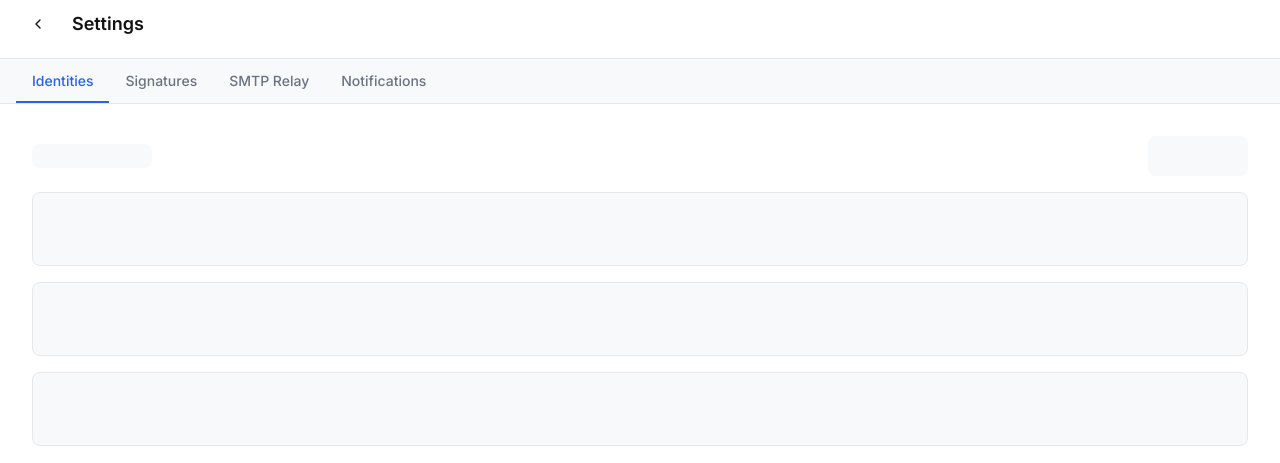
Test: Settings › signatures tab › renders signature list when data is available
Click the tab "Signatures" at [161, 81], box [110,59,213,103]
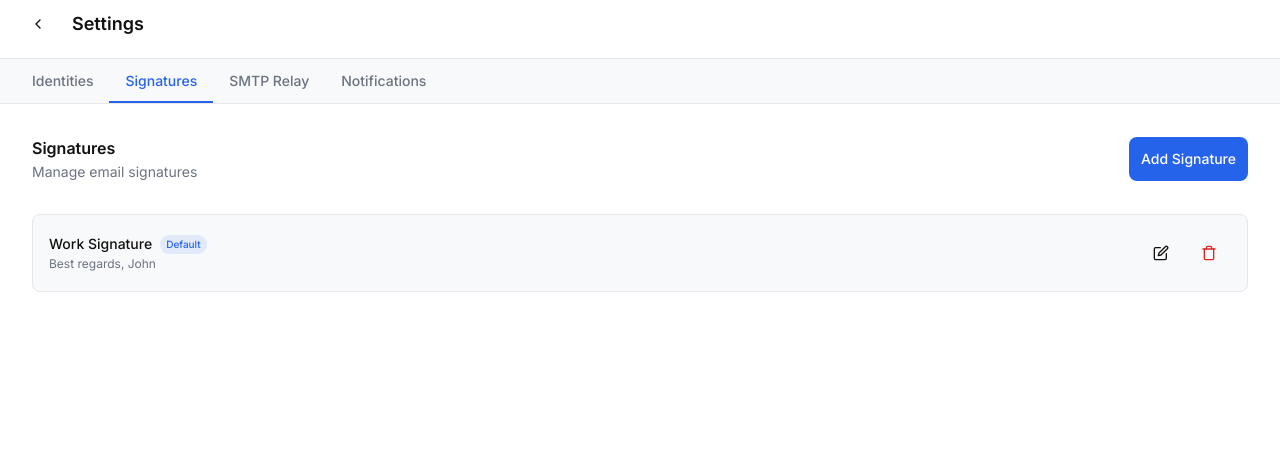
Now the text "Work Signature" is shown, box [49,234,152,254]
Now the text "Best regards, John" is shown, box [49,256,156,271]
